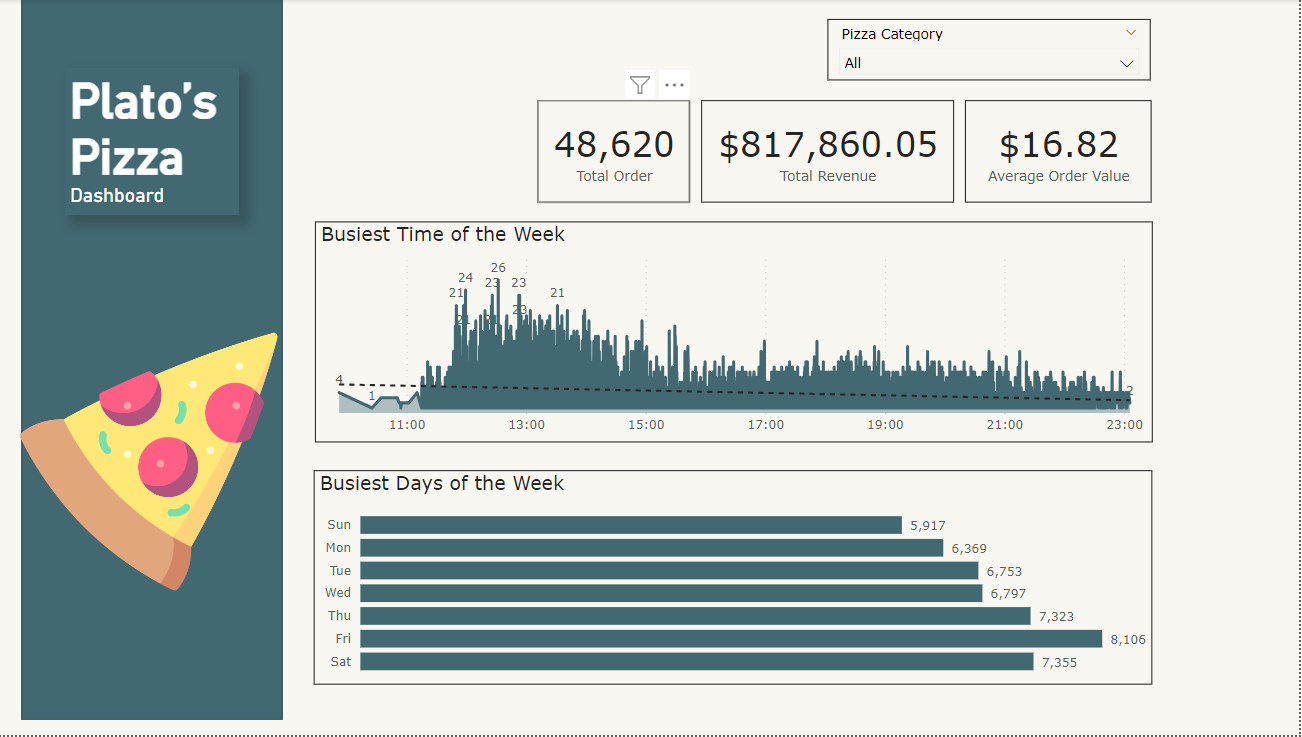

This screenshot's page, from the dashboard's own definition file:
{"tool":"powerbi","page":{"name":"Page 1","canvas":[1280,720],"ordinal":0},"visuals":[{"type":"clusteredBarChart","title":"Busiest Days of the Week","fields":{"Category":["orders.Days Of Week"],"Y":["Metric.Total Order"]},"box":[317.2,460.7,820.3,209.4],"z":0},{"type":"areaChart","title":"Busiest Time of the Week","fields":{"Category":["orders.time"],"Y":["Metric.Total Order"]},"box":[317.5,218.1,819.3,215.8],"z":1000},{"type":"card","fields":{"Values":["Metric.Average Order Value"]},"box":[953.5,99.2,182.1,100.2],"z":2000},{"type":"card","fields":{"Values":["Metric.Number of Orders"]},"box":[695.6,99.2,246.9,100.2],"z":3000},{"type":"shape","box":[31.1,0,255.7,704.9],"z":4000},{"type":"slicer","title":"Pizza Category","fields":{"Values":["pizza_types.category"]},"box":[819.3,19.8,315.8,59.6],"z":5000},{"type":"image","box":[25,321.4,261.9,261.9],"z":6000},{"type":"textbox","box":[73.8,66.7,170.2,144],"z":7000},{"type":"card","fields":{"Values":["Metric.Total Order"]},"box":[535.4,99.2,149.1,100.2],"z":8000}]}

Visuals, with their boxes in screenshot pixels (x1, y1, x2, y2), scaled from the page's 1280x720 canvas onto the 1302x737 screenshot:
"Busiest Days of the Week" clusteredBarChart: bbox=[323, 472, 1157, 686]
"Busiest Time of the Week" areaChart: bbox=[323, 223, 1156, 444]
card - Metric.Average Order Value: bbox=[970, 102, 1155, 204]
card - Metric.Number of Orders: bbox=[708, 102, 959, 204]
shape: bbox=[32, 0, 292, 722]
"Pizza Category" slicer: bbox=[833, 20, 1155, 81]
image: bbox=[25, 329, 292, 597]
textbox: bbox=[75, 68, 248, 216]
card - Metric.Total Order: bbox=[545, 102, 696, 204]
